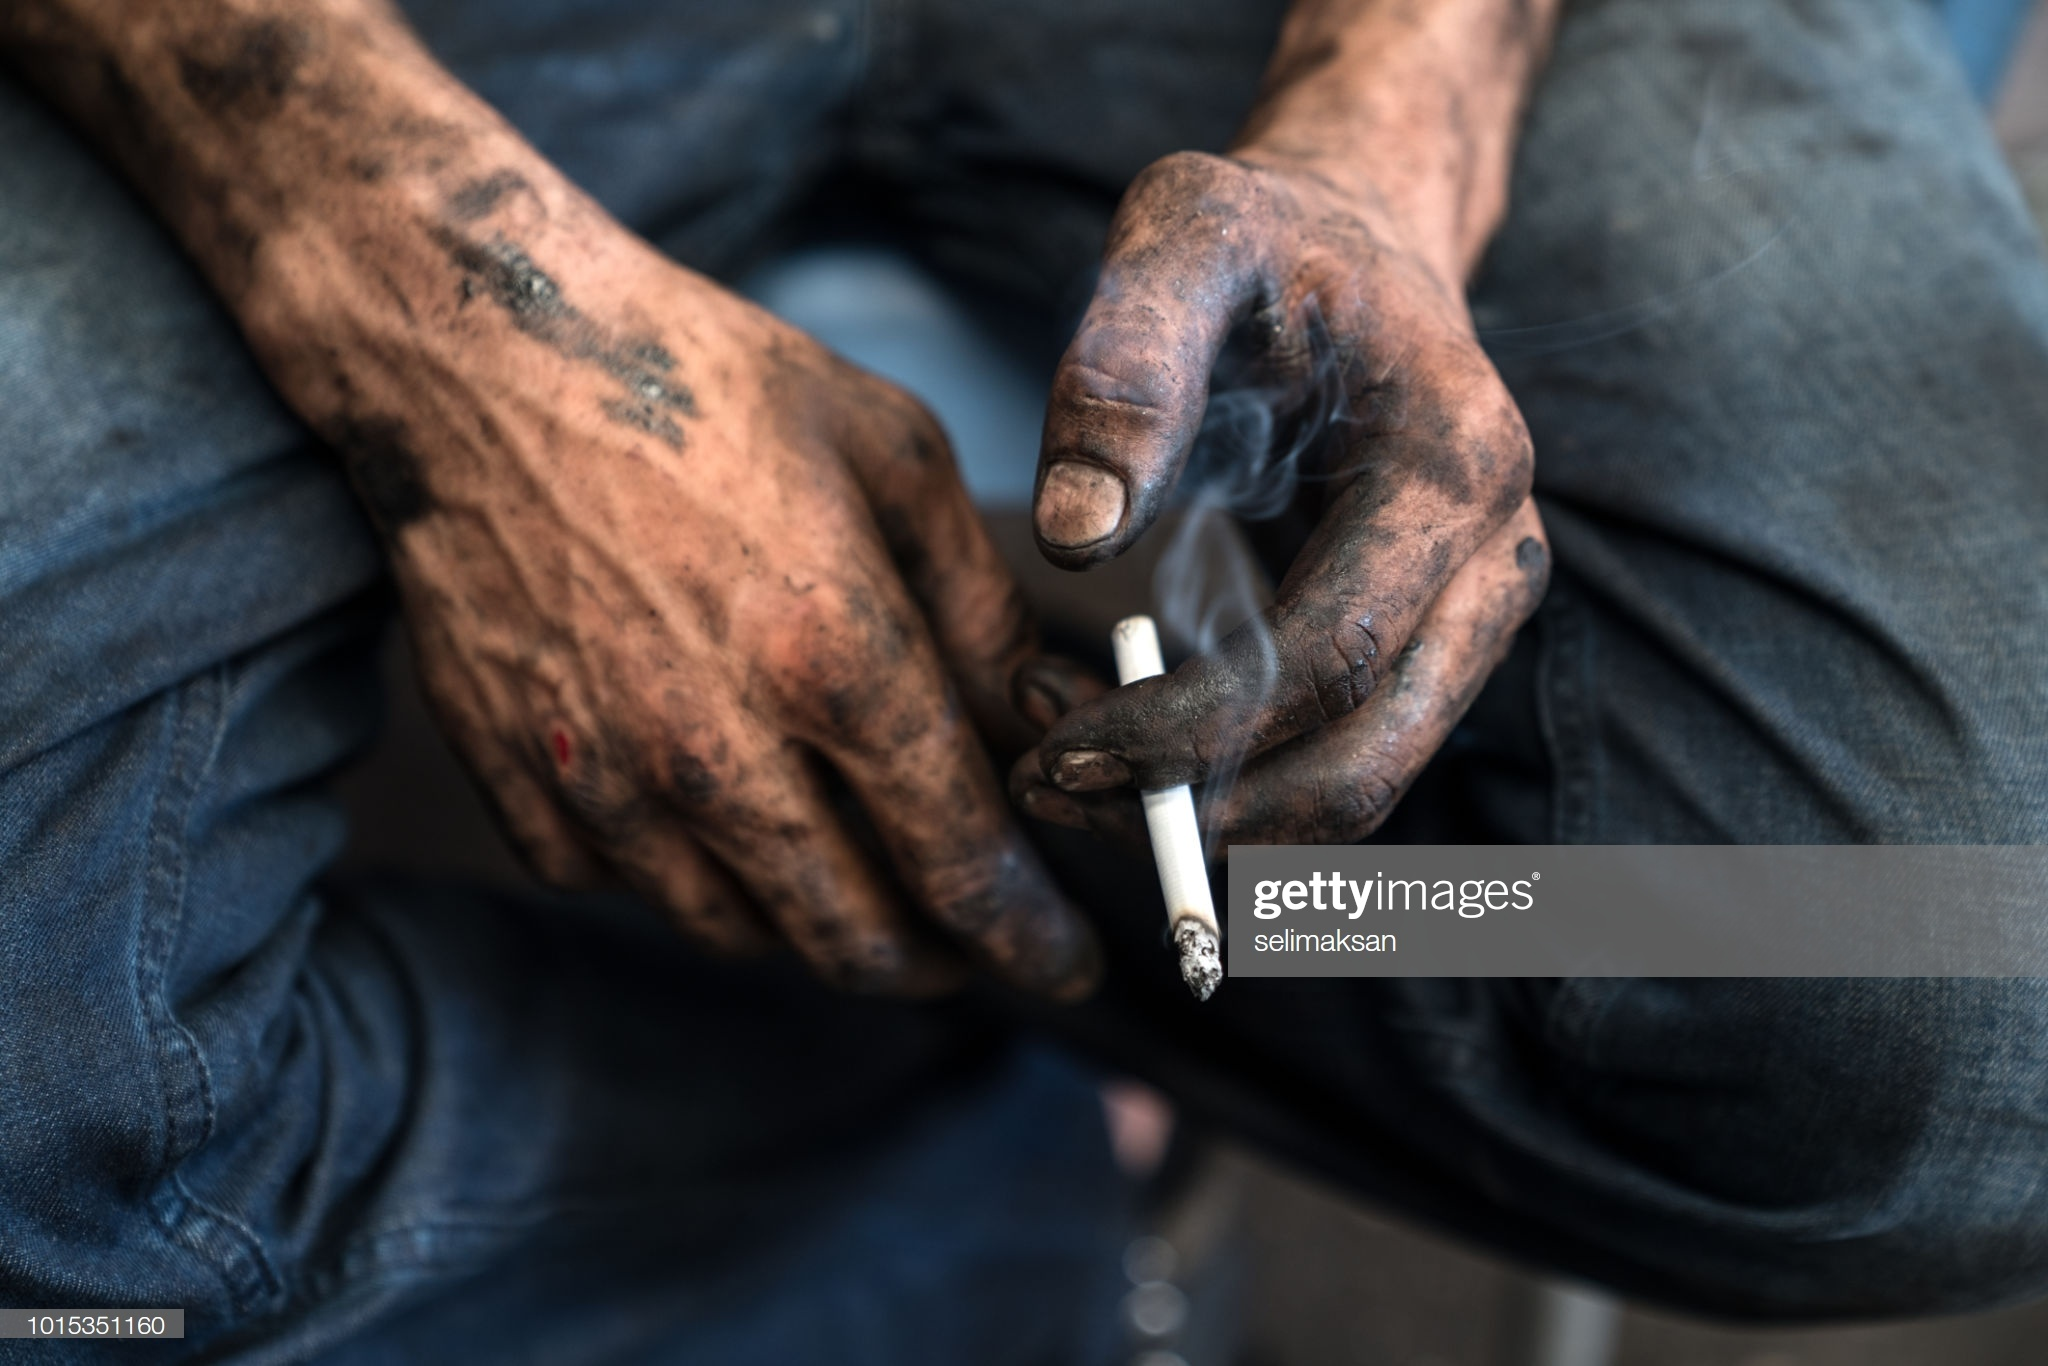sigaretta: (1105, 604, 1245, 982)
